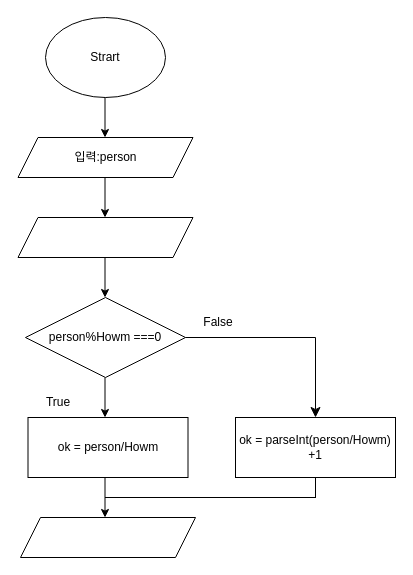
Image size: 413x575. Some labels were removed from this diagram. Here are the shapes that lost their labels. From the top down, the centre of each, then its label:
pixel 105 237: 입력:Howm
pixel 108 537: 출력: 총 ok줄이 필요합니다.
